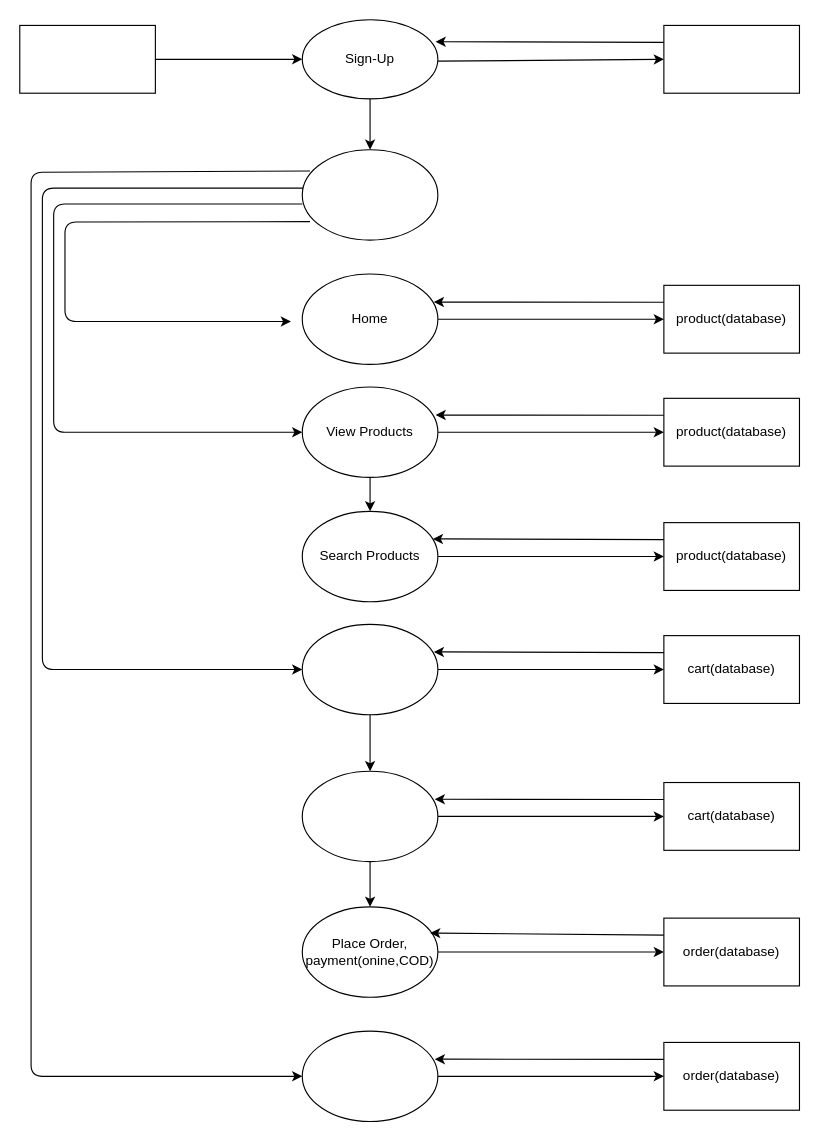
Some shapes in this 819 by 1141 pixel diagram are drawn without their labels. Here are the shapes that lost their labels. From the top down, the box of each, then its label:
(19, 24, 155, 93): User
(663, 24, 799, 93): user(database)
(301, 149, 438, 240): Login
(301, 623, 438, 715): view Cart
(301, 770, 438, 862): Add,Delete,Search product
(301, 1030, 438, 1122): view Orders
